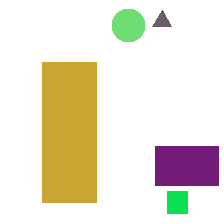circle: (112, 9, 144, 41)
rectangle: (42, 62, 96, 202), (155, 146, 218, 185), (167, 191, 187, 213)
triangle: (152, 10, 171, 26)
